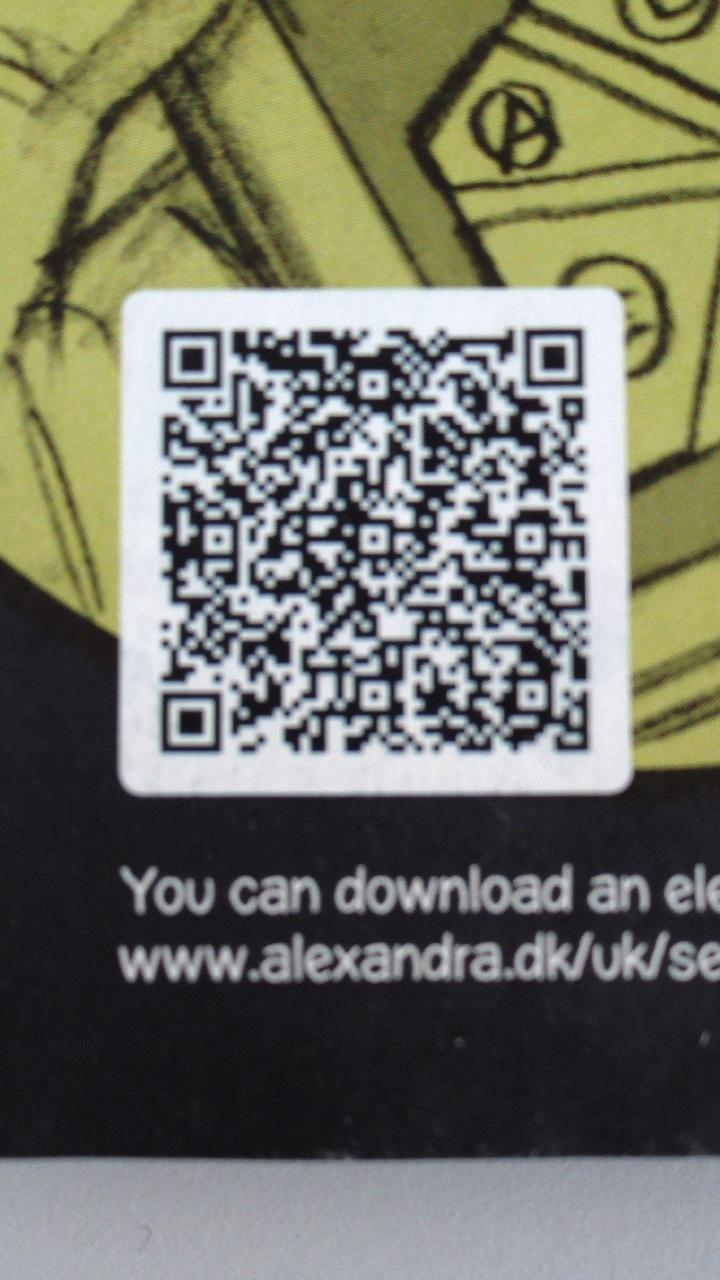Finder pattern: (153, 681, 229, 765), (156, 319, 230, 398), (512, 319, 587, 394)
